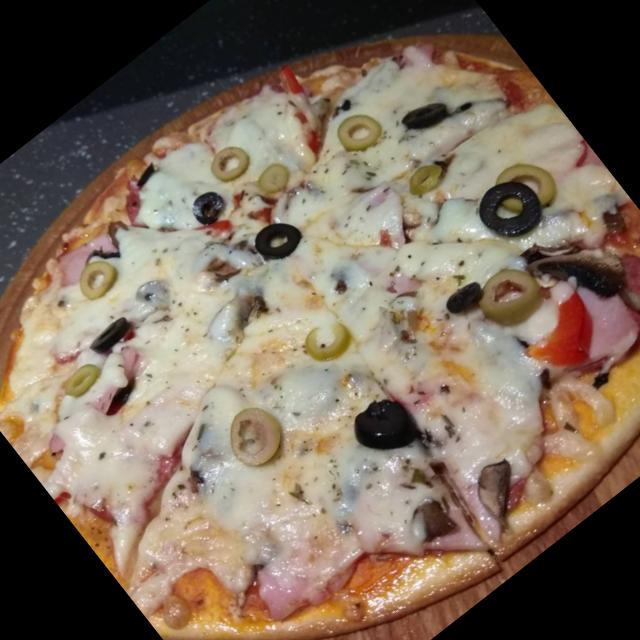black_olives: (466, 166, 552, 252), (342, 386, 424, 468), (248, 209, 310, 269), (180, 182, 238, 239), (82, 305, 138, 358), (401, 89, 454, 139), (441, 272, 488, 318)
mushrooms: (520, 208, 640, 331)
pizza: (0, 58, 640, 640)
